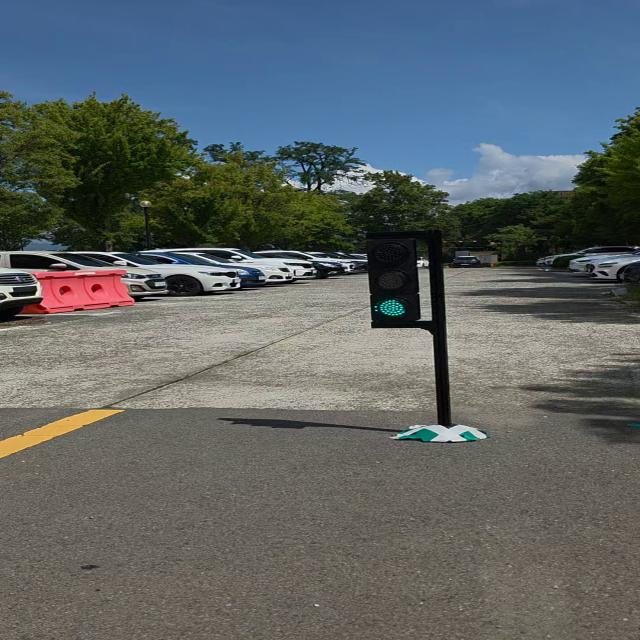green: (366, 230, 419, 329)
